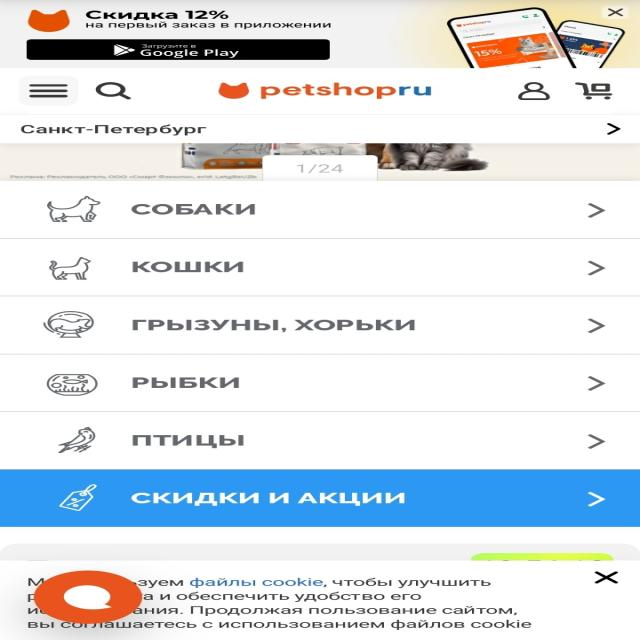button: (23, 40, 333, 59), (590, 569, 619, 587), (606, 6, 626, 18)
site: (0, 561, 640, 640), (0, 0, 640, 64)
